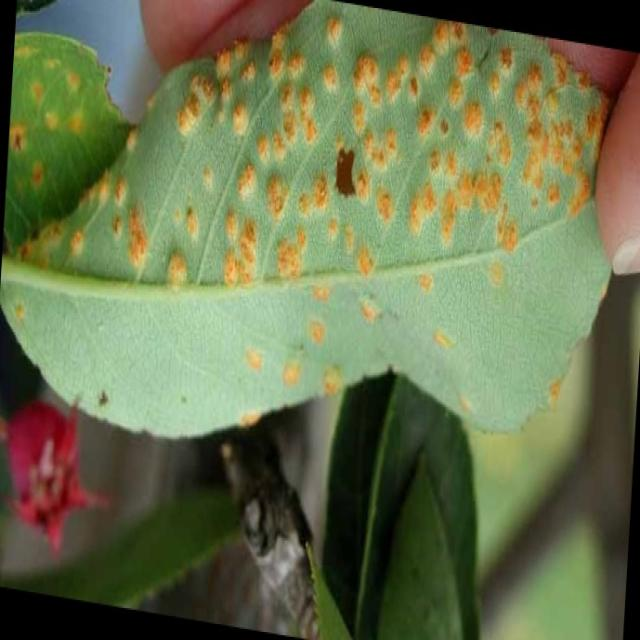Gymnosporangium_Rusts: (2, 1, 616, 444)
